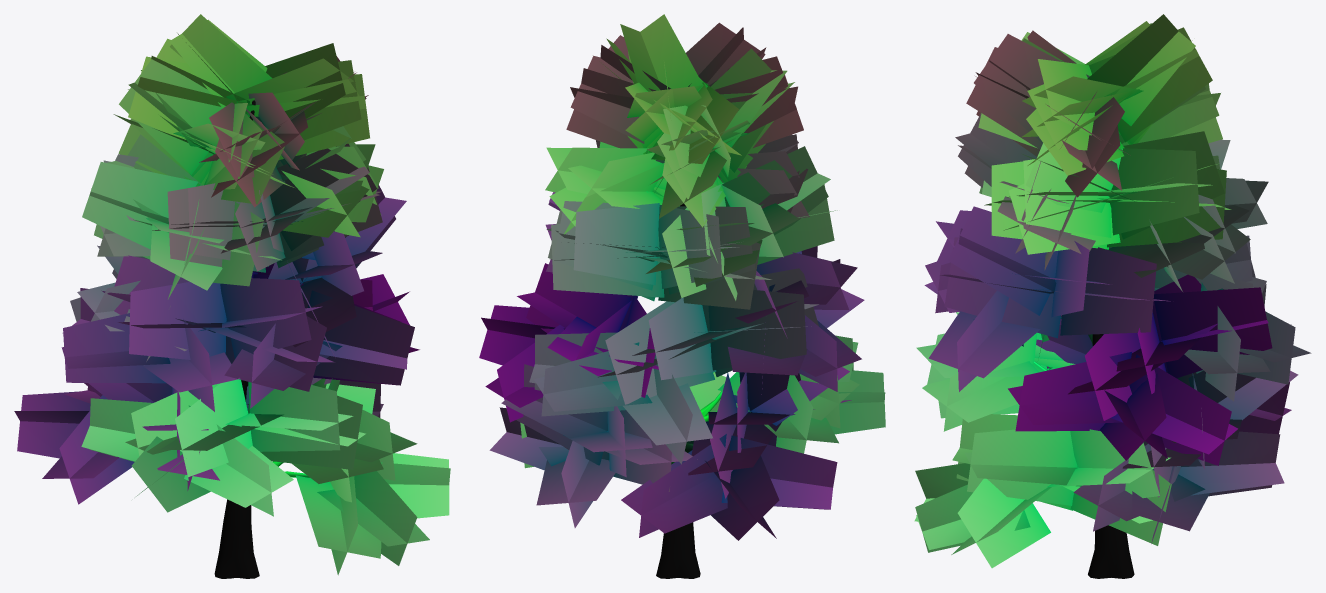
Rendered from Tree_4_9.fbx.
3 renders of one model, left to right at view 1: azimuth 30°, elevation 25°; view 2: azimuth 150°, elevation 25°; view 3: azimuth 270°, elevation 25°, orthographic. The views are drawn at different scales.
Parts seen in each view (by area): view 1: _9; view 2: _9; view 3: _9.
Part boxes in pixels (box(x1,y1,x2,y2)): _9: box(14, 14, 450, 578); _9: box(479, 14, 885, 578); _9: box(914, 14, 1311, 578).
Size of the model in its own units: 1722 by 2487 by 1623.
